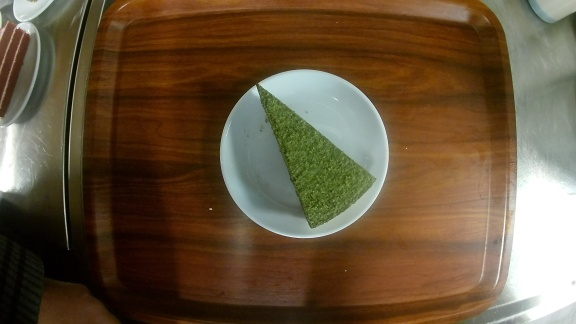fistiklipasta: (219, 69, 391, 237)
